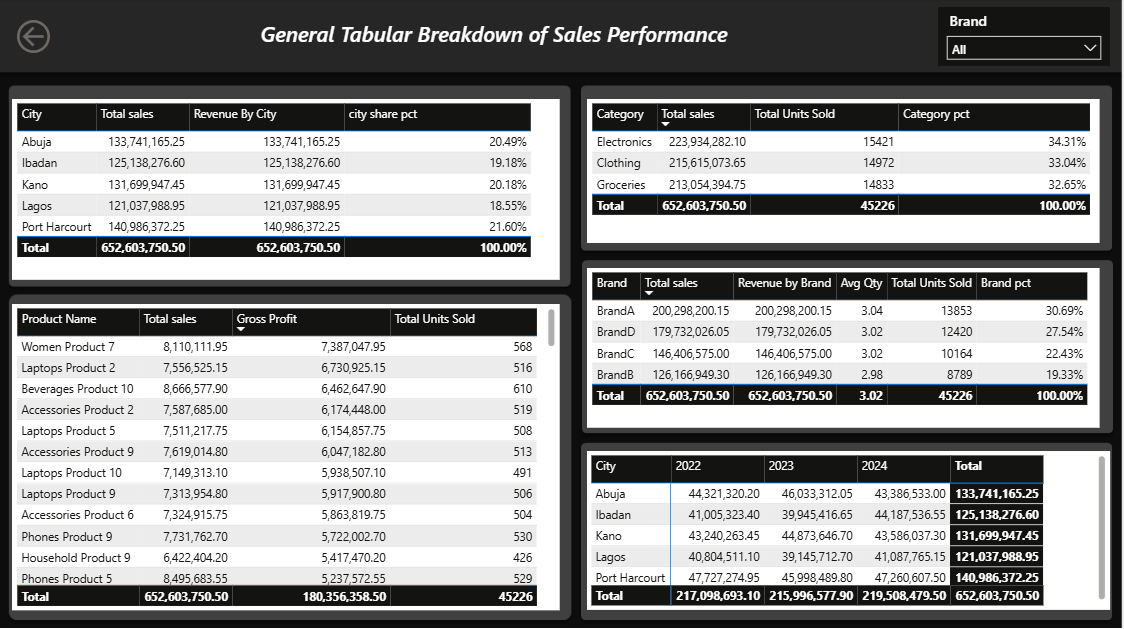

The dashboard page shown, as its layout file describes it:
{"tool":"powerbi","page":{"name":" ▦  Tabular Breakdown","canvas":[1280,720],"ordinal":5},"visuals":[{"type":"pivotTable","fields":{"Values":["all measures.Revenue By City"],"Columns":["Date.Year"],"Rows":["Customers.City"]},"box":[671,516.1,595.8,181.1],"z":0},{"type":"tableEx","fields":{"Values":["Customers.City","all measures.Total sales","all measures.Revenue By City","all measures.city share pct"]},"box":[15.9,115.1,624.3,206.2],"z":1000},{"type":"actionButton","box":[15.9,19.4,84.3,49],"z":2000},{"type":"tableEx","fields":{"Values":["Products.Brand","all measures.Total sales","all measures.Revenue by Brand","all measures.Avg Qty","all measures.Total Units Sold","all measures.Brand pct"]},"box":[671,307.6,584.4,182.3],"z":3000},{"type":"tableEx","fields":{"Values":["Products.Product Name","all measures.Total sales","all measures.Gross Profit","all measures.Total Units Sold"]},"box":[15.9,348.6,624.3,348.6],"z":4000},{"type":"tableEx","fields":{"Values":["Products.Category","all measures.Total sales","all measures.Total Units Sold","all measures.Category pct"]},"box":[671,115.1,584.4,164.1],"z":5000},{"type":"slicer","fields":{"Values":["Products.Brand"]},"box":[1070.9,10.3,195.9,67.2],"z":6000},{"type":"textbox","box":[166.3,19.4,797.5,58.1],"z":7000}]}

Visuals, with their boxes in screenshot pixels (x1, y1, x2, y2), scaled from the page's 1280x720 canvas onto the 1124x629 screenshot:
pivotTable - all measures.Revenue By City x Date.Year: [589, 451, 1112, 609]
tableEx - Customers.City x all measures.Total sales: [14, 101, 562, 281]
actionButton: [14, 17, 88, 60]
tableEx - Products.Brand x all measures.Total sales: [589, 269, 1102, 428]
tableEx - Products.Product Name x all measures.Total sales: [14, 305, 562, 609]
tableEx - Products.Category x all measures.Total sales: [589, 101, 1102, 244]
slicer - Products.Brand: [940, 9, 1112, 68]
textbox: [146, 17, 846, 68]
